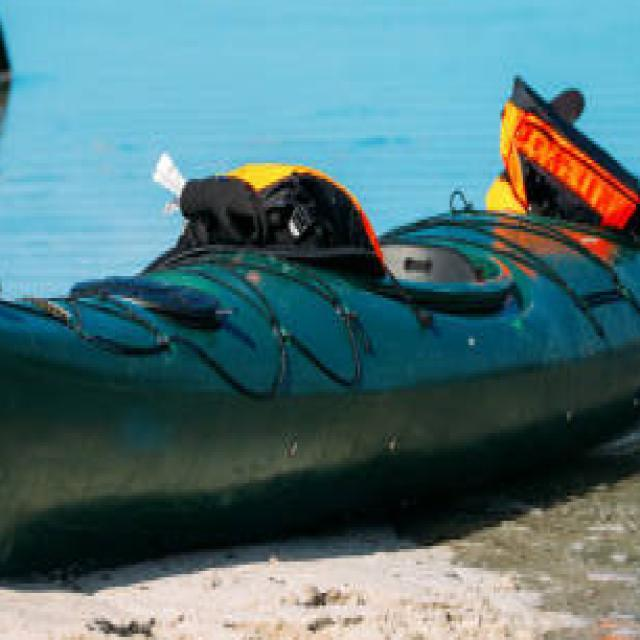kayak: (0, 82, 640, 572)
